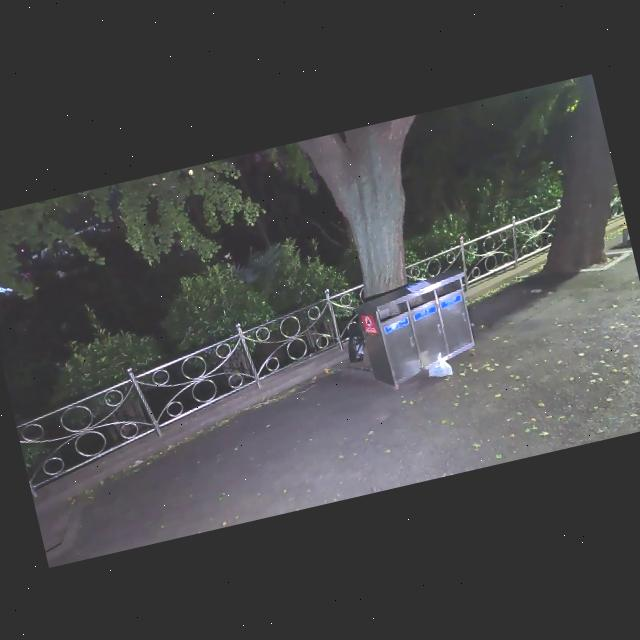trash: (416, 346, 458, 384), (341, 328, 366, 372)
